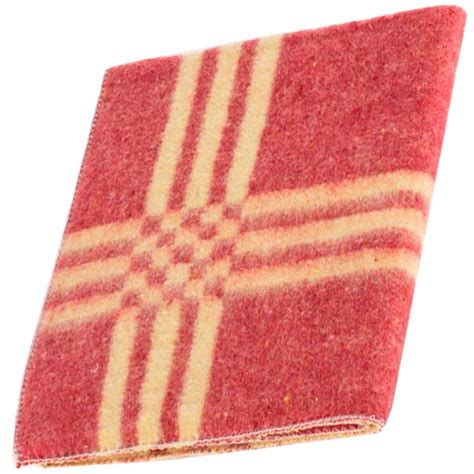gamuza: (16, 7, 468, 468)
